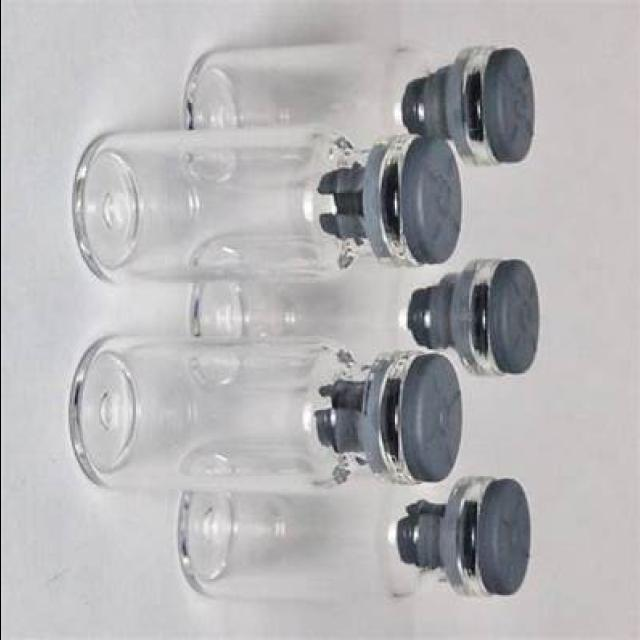vial: (454, 254, 560, 386), (466, 464, 560, 602), (379, 356, 461, 472), (392, 125, 459, 266), (494, 31, 550, 142)
